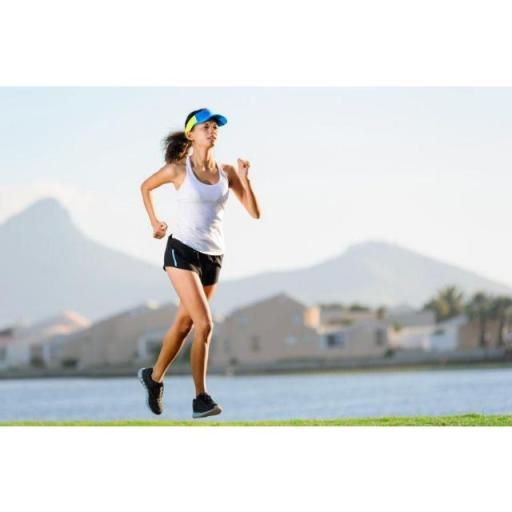Running: (134, 102, 264, 416)
